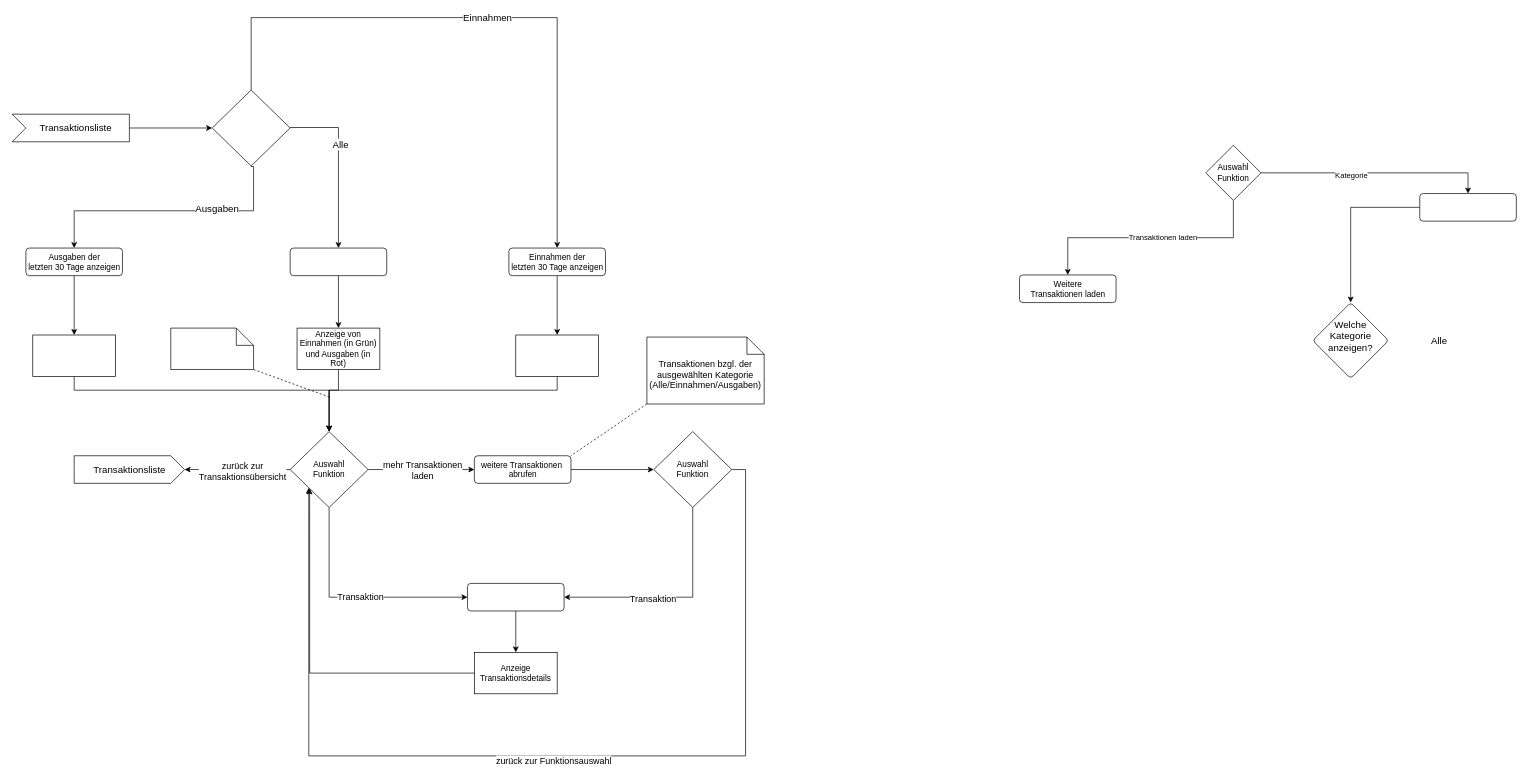
Some shapes in this 1529 by 778 pixel diagram are drawn without their labels. The centre of each missing label's shape, as x and y in pixels:
alle Transaktionen der letzten 30 Tage anzeigen: (x=338, y=261)
Anzeige der Ausgaben in roter Schrift: (x=74, y=355)
Anzeige der Einnahmen in grüner Schrift: (x=557, y=355)
Auswahl Anzeige: (x=250, y=127)
Darstellungsoption auswählen: (x=1467, y=207)
Merge?: (x=212, y=348)
Transaktion auswählen: (x=515, y=597)
